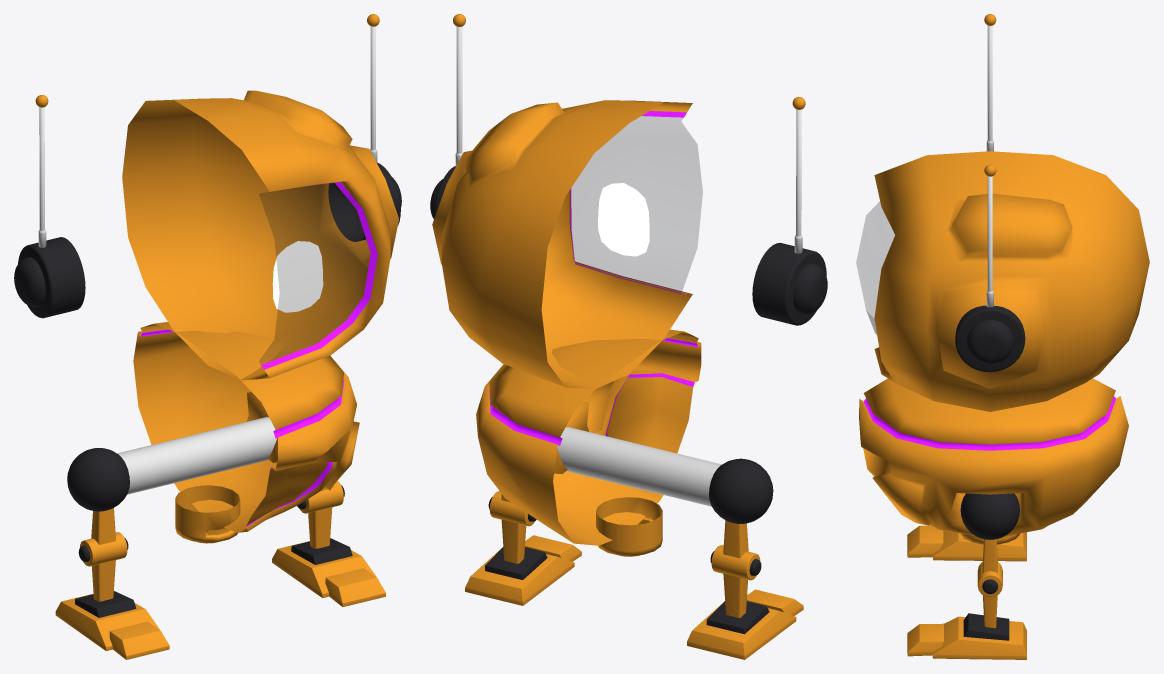
The model's file is robot3.glb.
3 renders of one model, left to right at view 1: azimuth 30°, elevation 25°; view 2: azimuth 150°, elevation 25°; view 3: azimuth 270°, elevation 25°, orthographic. The views are drawn at different scales.
Parts seen in each view (by area): view 1: 立方体, 立方体.001, 柱体.003, 柱体.007, 球体.001, 平面, 柱体.005, 立方体.010, 立方体.005, 立方体.006, 柱体, 立方体.011 (+10 smaller); view 2: 立方体, 立方体.001, 柱体.003, 柱体.007, 球体.001, 平面, 柱体.005, 立方体.005, 立方体.010, 柱体.008, 柱体.006, 立方体.009 (+9 smaller); view 3: 立方体, 立方体.001, 立方体.005, 球体, 柱体, 立方体.010, 柱体.001, 立方体.006, 立方体.011, 立方体.004, 柱体.002, 柱体.010 (+3 smaller).
Boxes of the visible parts, bbox=[...] form: 立方体: bbox=[122, 90, 398, 380]; 立方体.001: bbox=[133, 322, 359, 532]; 柱体.003: bbox=[117, 417, 276, 494]; 柱体.007: bbox=[18, 237, 85, 318]; 球体.001: bbox=[67, 448, 129, 511]; 平面: bbox=[272, 241, 323, 312]; 柱体.005: bbox=[175, 485, 240, 543]; 立方体.010: bbox=[55, 593, 162, 650]; 立方体.005: bbox=[272, 541, 378, 597]; 立方体.006: bbox=[325, 568, 385, 607]; 柱体: bbox=[328, 162, 400, 241]; 立方体.011: bbox=[109, 621, 169, 659]; 立方体: bbox=[432, 100, 702, 389]; 立方体.001: bbox=[476, 329, 701, 545]; 柱体.003: bbox=[557, 427, 721, 506]; 柱体.007: bbox=[752, 242, 826, 325]; 球体.001: bbox=[709, 458, 773, 523]; 平面: bbox=[598, 183, 649, 256]; 柱体.005: bbox=[596, 497, 662, 556]; 立方体.005: bbox=[465, 547, 574, 605]; 立方体.010: bbox=[687, 601, 796, 659]; 柱体.008: bbox=[793, 263, 827, 314]; 柱体.006: bbox=[710, 545, 761, 580]; 立方体.009: bbox=[706, 601, 769, 634]; 立方体: bbox=[856, 151, 1149, 411]; 立方体.001: bbox=[859, 378, 1128, 536]; 立方体.005: bbox=[932, 616, 1026, 659]; 球体: bbox=[960, 493, 1019, 539]; 柱体: bbox=[955, 305, 1025, 372]; 立方体.010: bbox=[933, 530, 1026, 561]; 柱体.001: bbox=[966, 320, 1013, 364]; 立方体.006: bbox=[907, 623, 943, 656]; 立方体.011: bbox=[907, 525, 943, 557]; 立方体.004: bbox=[963, 613, 1009, 640]; 柱体.002: bbox=[986, 176, 993, 307]; 柱体.010: bbox=[986, 25, 993, 151].
Bounding box in the file's own units: 2.11 × 2.94 × 1.55.
